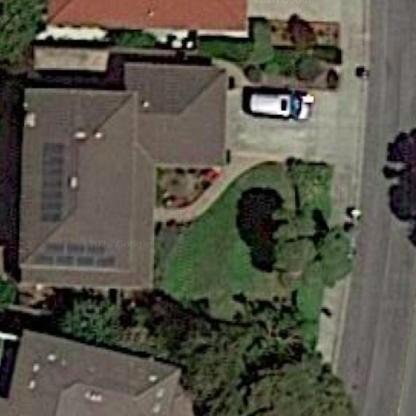car: (243, 80, 326, 129)
solar_panel: (35, 137, 72, 226), (33, 236, 121, 273)
